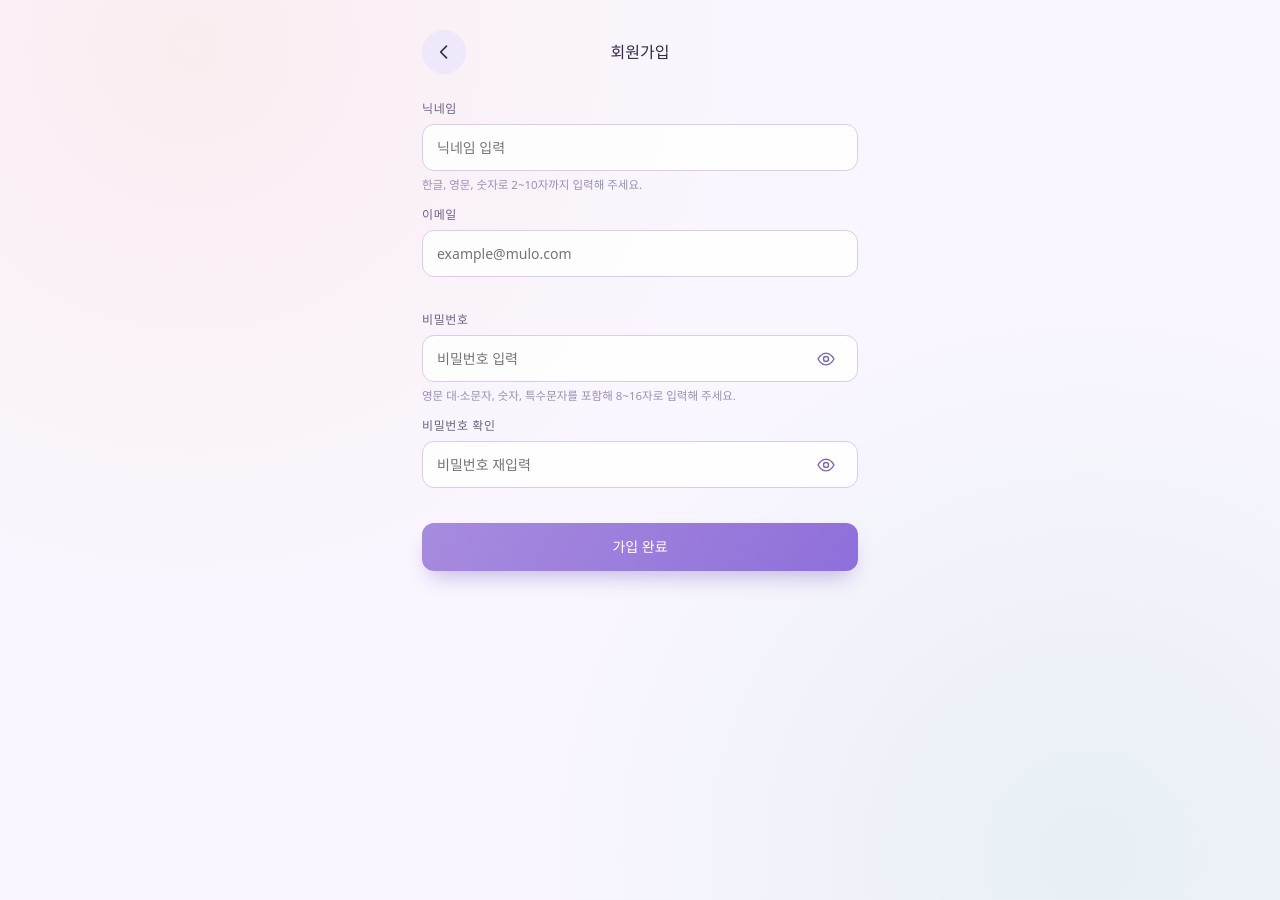
Test: SignupPage › shows a network message when the server cannot be reached
Step 1. Type "뮬로" into the field labelled "닉네임" → (640, 148), box [422,124,858,171]
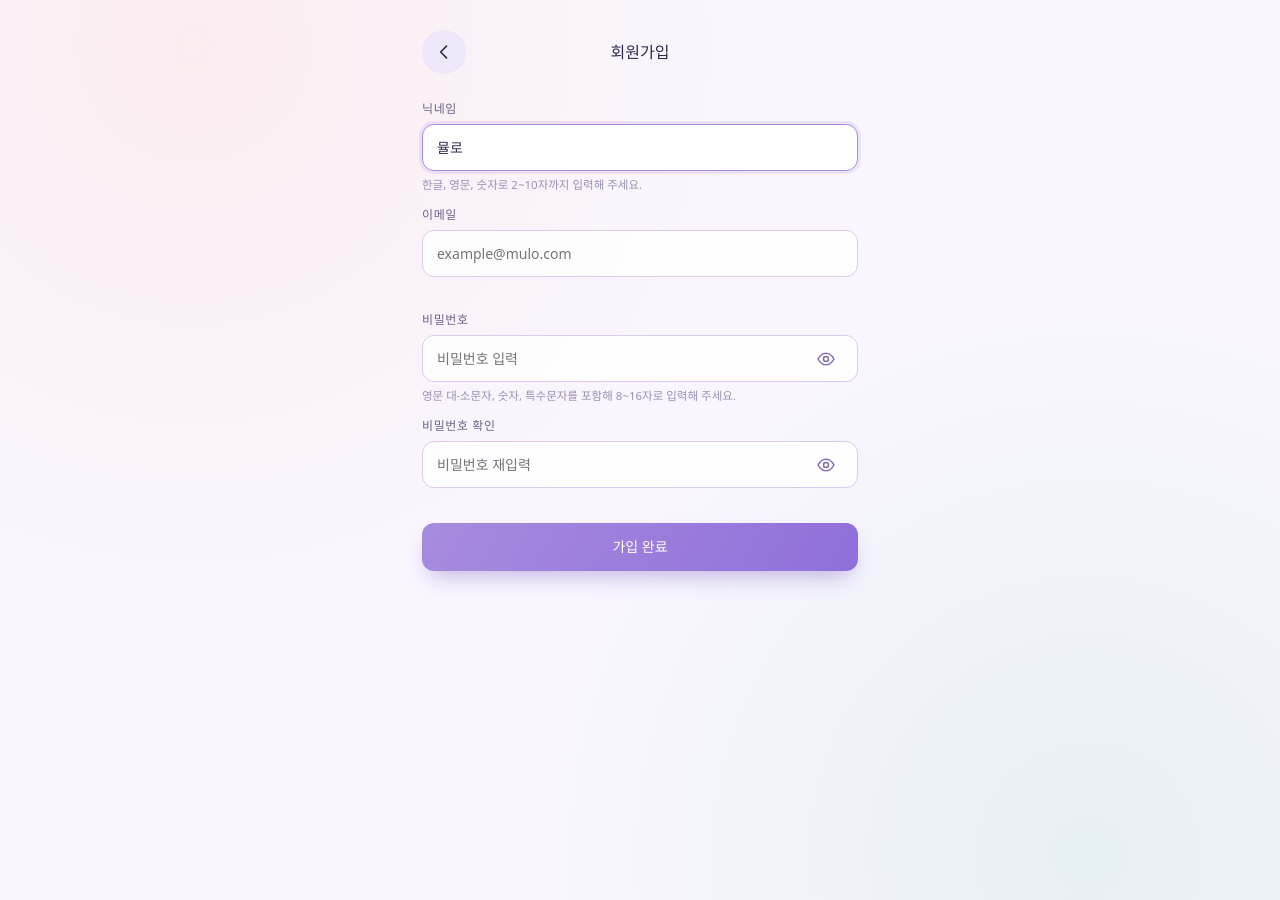
Step 2. Type "user@example.com" into the field labelled "이메일" → (640, 253), box [422,230,858,277]
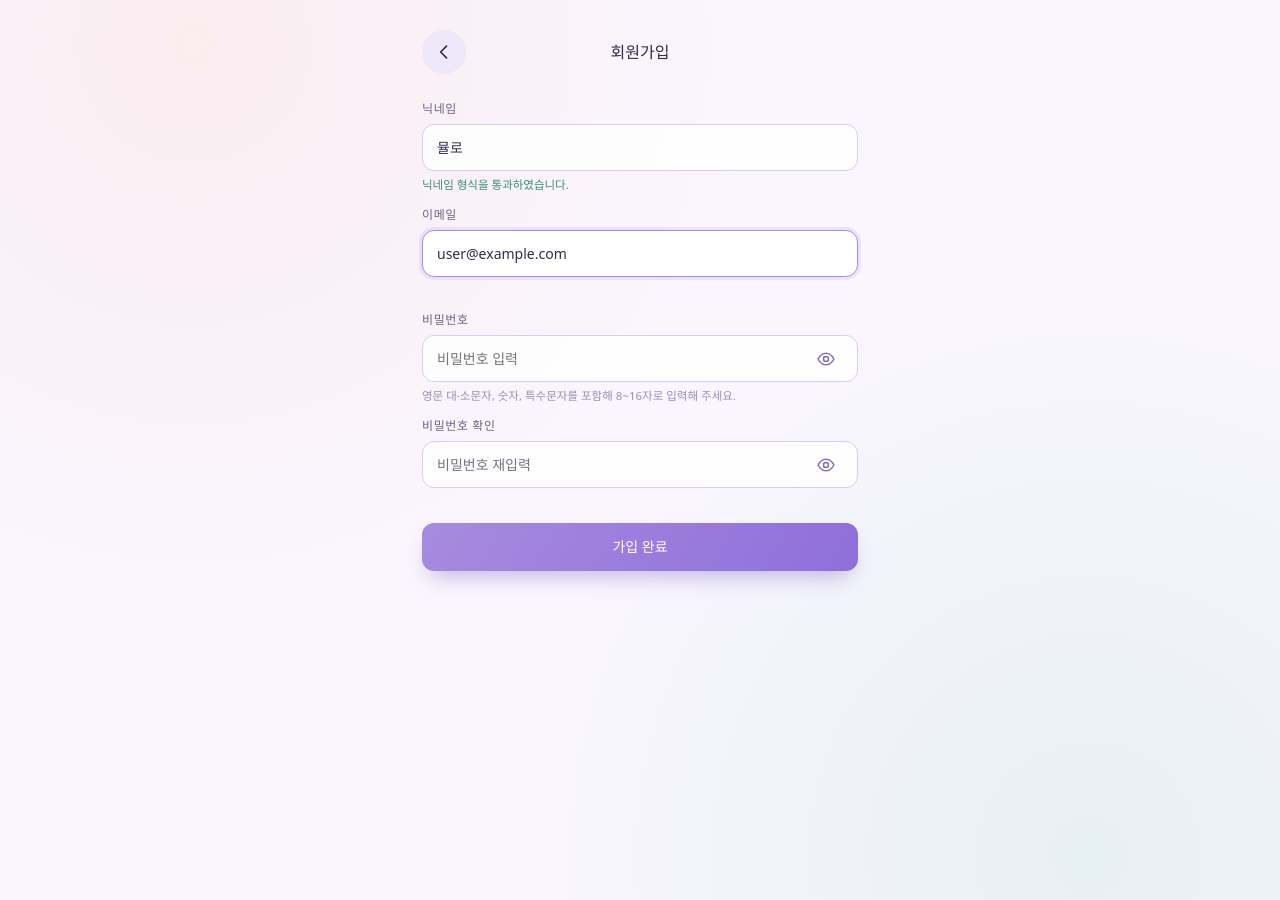
Step 3. Type "Password1!" into the password field labelled "비밀번호" → (640, 359), box [422,335,858,382]
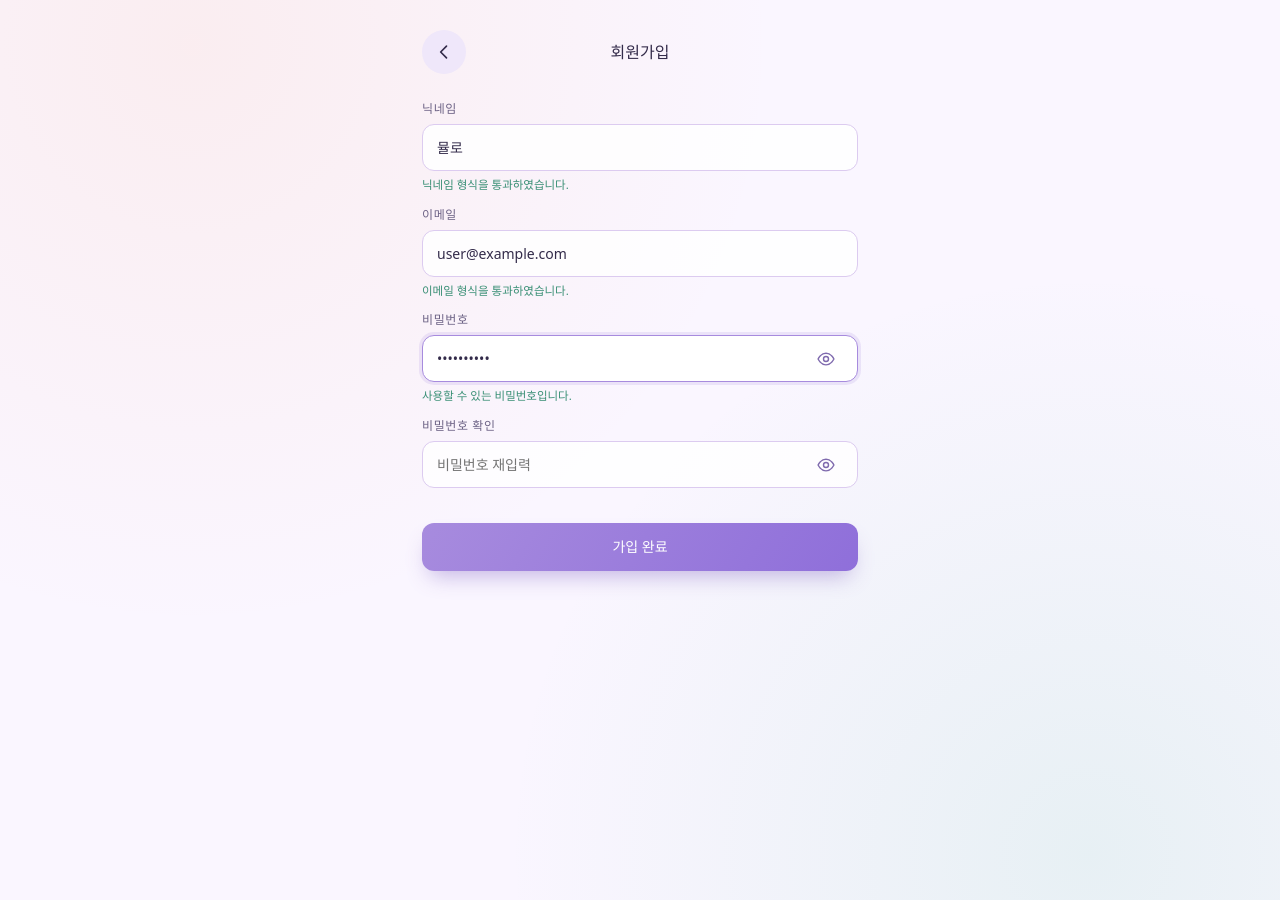
Step 4. Type "Password1!" into the password field labelled "비밀번호 확인" → (640, 465), box [422,441,858,488]
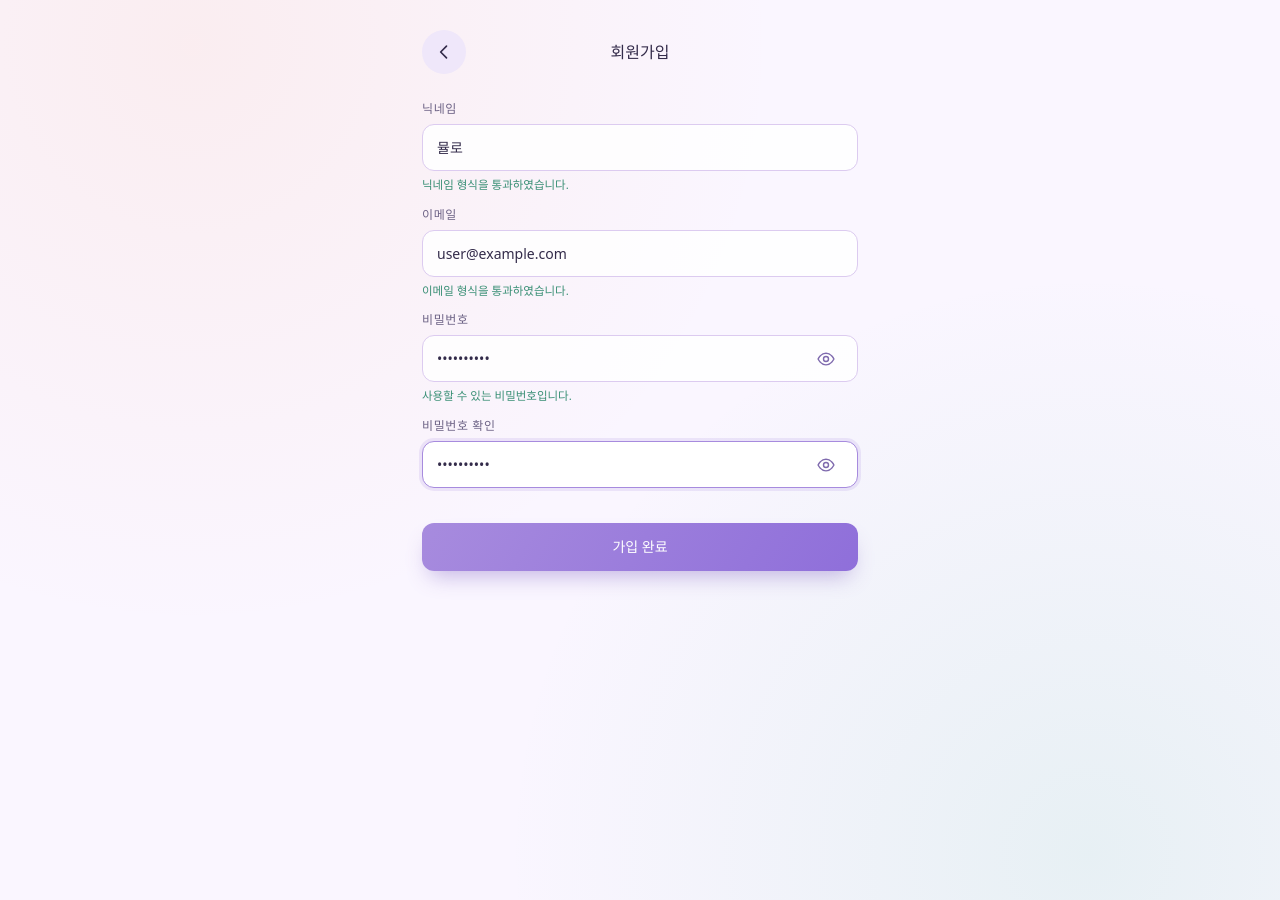
Step 5. Click the button "가입 완료" → (640, 547), box [422,523,858,571]
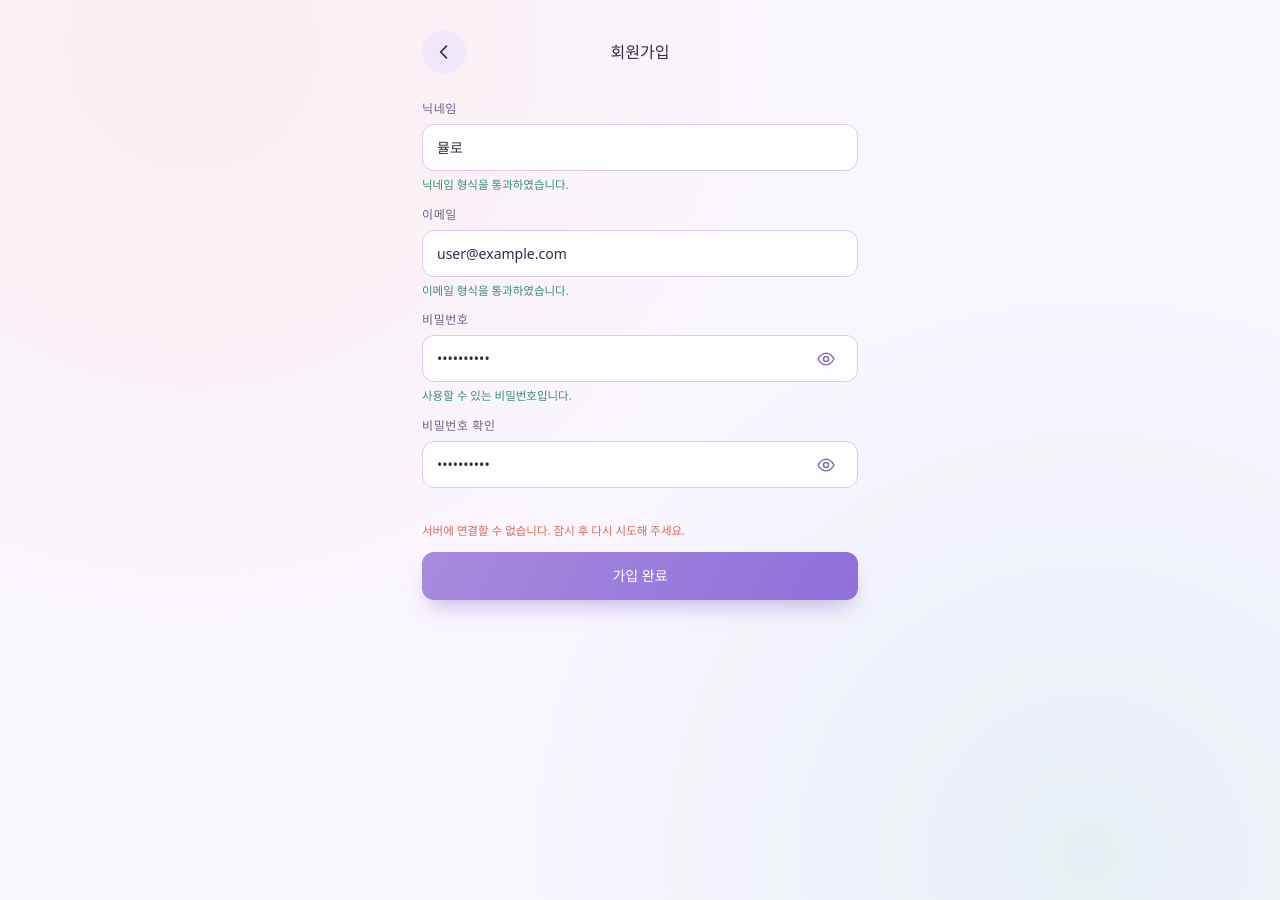
Result: the message reads "서버에 연결할 수 없습니다. 잠시 후 다시 시도해 주세요." at [422,523,685,538]
